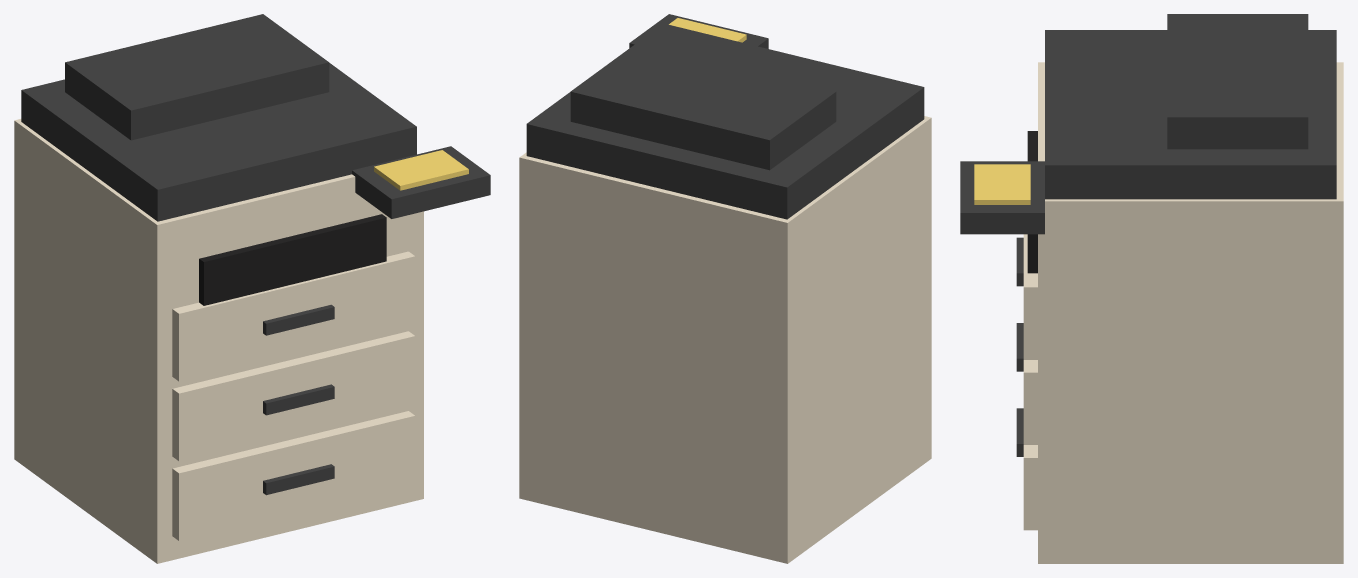
The picture shows the model from 3 angles, left to right: view 1: azimuth 30°, elevation 25°; view 2: azimuth 150°, elevation 25°; view 3: azimuth 270°, elevation 25°; orthographic projection. The views are drawn at different scales.
Visible parts, largest first — view 1: Body; view 2: Body; view 3: Body.
Boxes of the visible parts, left/top/right/bottom form: Body: left=14, top=14, right=490, bottom=563; Body: left=519, top=14, right=931, bottom=563; Body: left=960, top=14, right=1343, bottom=563.
Bounding box in the file's own units: 0.78 × 1 × 0.815.
Materials: 1 (1 with a texture image).
